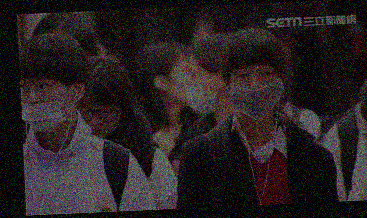mask_weared_incorrect: (20, 79, 74, 134)
with_mask: (228, 67, 284, 123), (181, 65, 215, 118)
without_mask: (74, 100, 121, 141)
